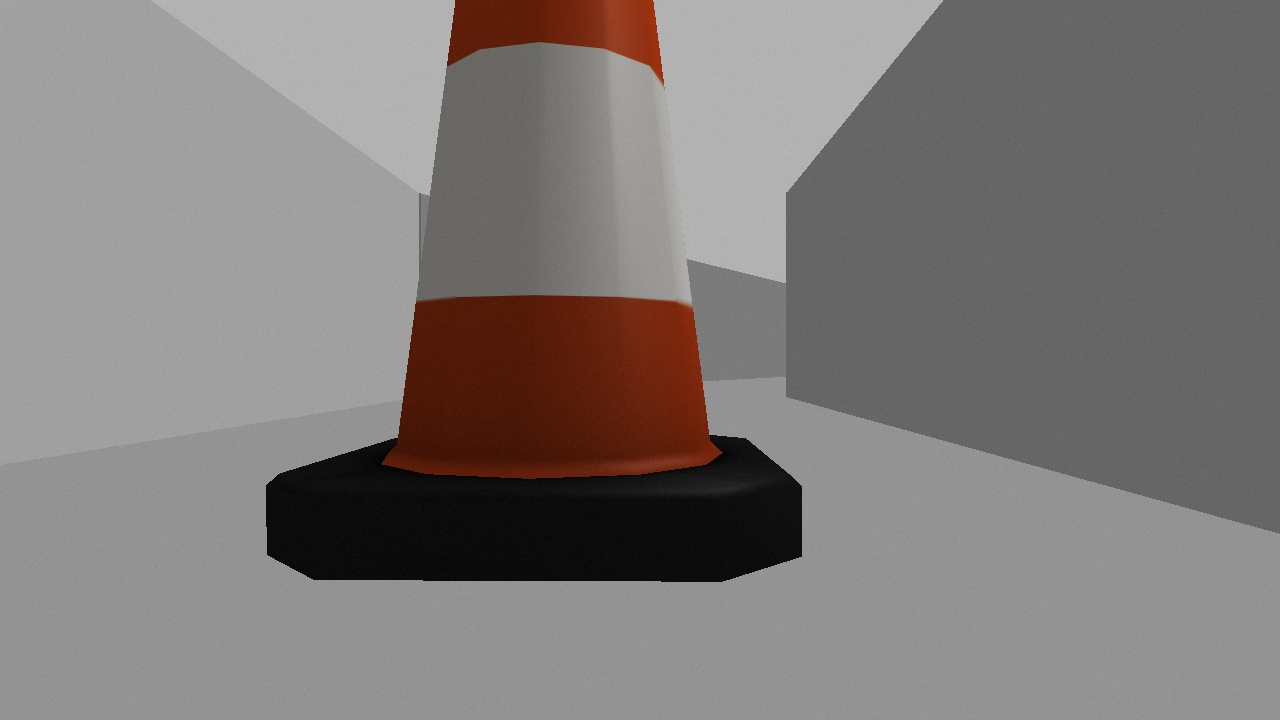barricade: (239, 1, 833, 612)
